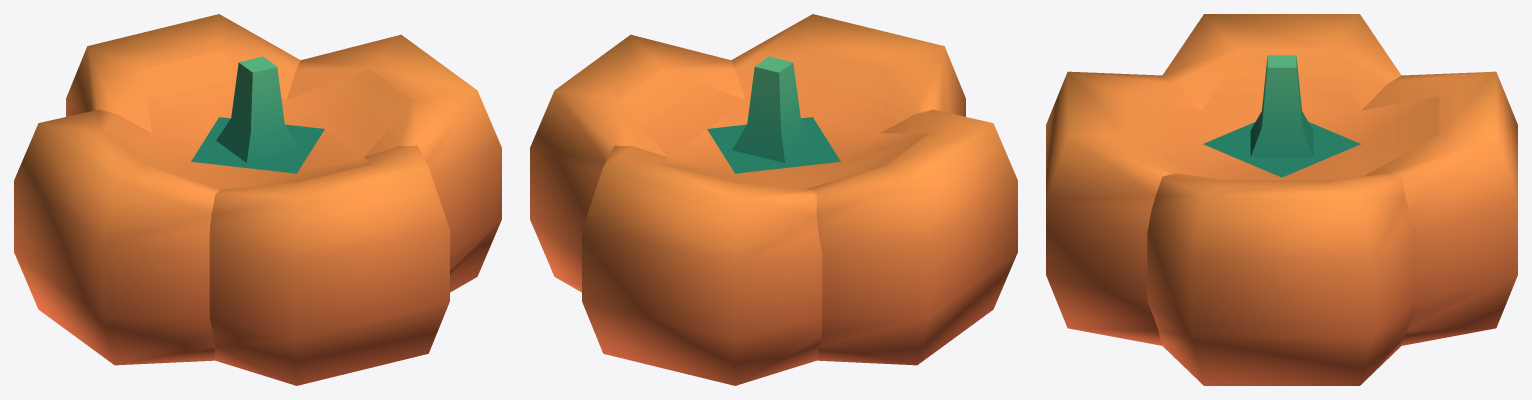
Rendered from pumpkin.obj.
3 views of the same model, side by side, from view 1: azimuth 30°, elevation 25°; view 2: azimuth 150°, elevation 25°; view 3: azimuth 270°, elevation 25° (orthographic). The views are drawn at different scales.
Visible parts, largest first — view 1: pumpkin; view 2: pumpkin; view 3: pumpkin.
Boxes of the visible parts, <box> form: pumpkin: <box>14,14,501,385</box>; pumpkin: <box>530,14,1017,385</box>; pumpkin: <box>1046,14,1517,385</box>.
Size of the model in its own units: 0.4189 by 0.2291 by 0.4189.
Materials: 1 (1 with a texture image).
